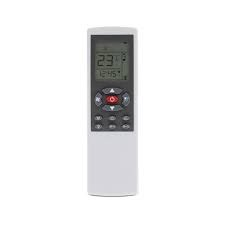remote control: (90, 30, 138, 196)
